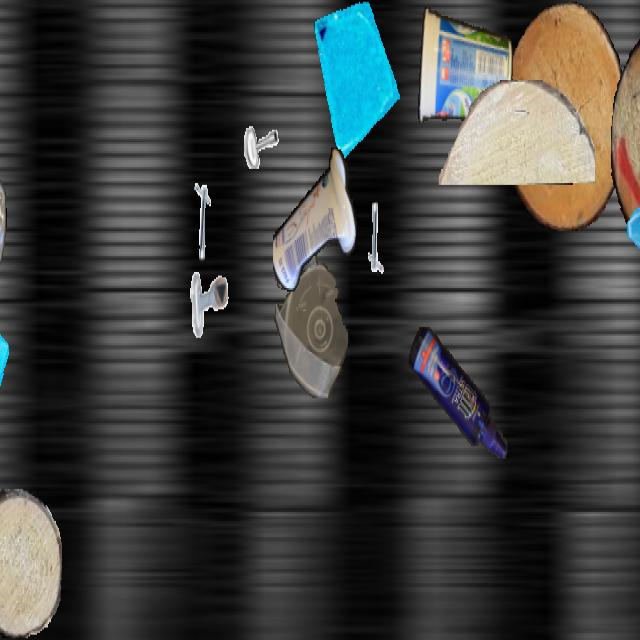glass: (313, 2, 405, 165), (625, 172, 640, 294), (0, 314, 10, 474)
metal: (181, 180, 235, 276), (232, 76, 284, 169), (345, 188, 395, 278), (188, 263, 230, 338), (637, 2, 640, 108)
plastic: (409, 327, 507, 459), (273, 144, 357, 297), (416, 2, 512, 126), (274, 240, 348, 396), (0, 180, 8, 439)
wood: (503, 2, 627, 229), (438, 80, 594, 183), (0, 489, 61, 638), (611, 36, 640, 252)
